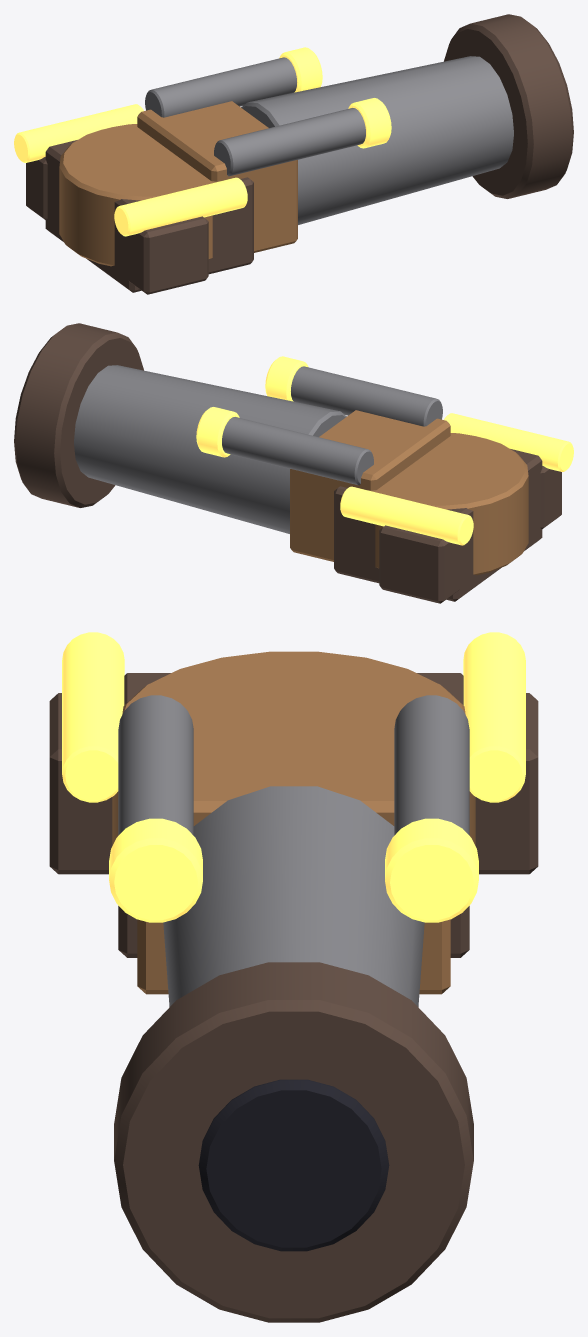
Rendered from cannon_turret_l3.glb.
3 renders of one model, top to bottom at view 1: azimuth 30°, elevation 25°; view 2: azimuth 150°, elevation 25°; view 3: azimuth 270°, elevation 25°, orthographic. The views are drawn at different scales.
Visible parts, largest first — view 1: Cone, Cylinder.001, Cylinder, Cube.001, Cylinder.003, Cube.002, Cube, Cylinder.005, Cylinder.007, Cylinder.010, Cylinder.009, Cylinder.004 (+5 smaller); view 2: Cone, Cylinder.001, Cylinder, Cube.001, Cylinder.005, Cube.003, Cube, Cylinder.003, Cylinder.010, Cylinder.007, Cylinder.011, Cylinder.012 (+5 smaller); view 3: Cylinder.001, Cone, Cylinder.002, Cube.001, Cylinder, Cylinder.003, Cylinder.005, Cylinder.004, Cylinder.006, Cube.002, Cube.003, Cylinder.012 (+6 smaller).
Part boxes in pixels (x1,y1,x2,y2): Cone: (241, 56, 513, 224); Cylinder.001: (444, 14, 573, 198); Cylinder: (59, 124, 219, 266); Cube.001: (137, 101, 297, 252); Cylinder.003: (214, 108, 365, 176); Cube.002: (126, 216, 208, 294); Cube: (45, 140, 253, 292); Cylinder.005: (145, 57, 296, 117); Cylinder.007: (114, 193, 187, 236); Cylinder.010: (14, 119, 86, 162); Cylinder.009: (184, 177, 247, 219); Cylinder.004: (348, 98, 391, 148); Cone: (74, 365, 346, 533); Cylinder.001: (14, 323, 143, 507); Cylinder: (368, 433, 528, 575); Cube.001: (290, 410, 450, 561); Cylinder.005: (222, 417, 373, 485); Cube.003: (379, 525, 461, 603); Cube: (334, 449, 542, 601); Cylinder.003: (291, 366, 442, 426); Cylinder.010: (400, 502, 473, 545); Cylinder.007: (501, 427, 573, 471); Cylinder.011: (370, 494, 437, 534); Cylinder.012: (340, 486, 404, 528); Cylinder.001: (114, 962, 473, 1322); Cone: (163, 786, 424, 1006); Cylinder.002: (198, 1079, 389, 1251); Cube.001: (137, 723, 450, 994); Cylinder: (112, 651, 475, 845); Cylinder.003: (118, 695, 193, 835); Cylinder.005: (394, 695, 469, 835); Cylinder.004: (109, 818, 202, 922); Cylinder.006: (385, 818, 478, 922); Cube.002: (49, 693, 112, 874); Cube.003: (475, 693, 538, 874); Cylinder.012: (465, 691, 525, 802).
Size of the model in its own units: 1.71 by 0.5681 by 0.78.
